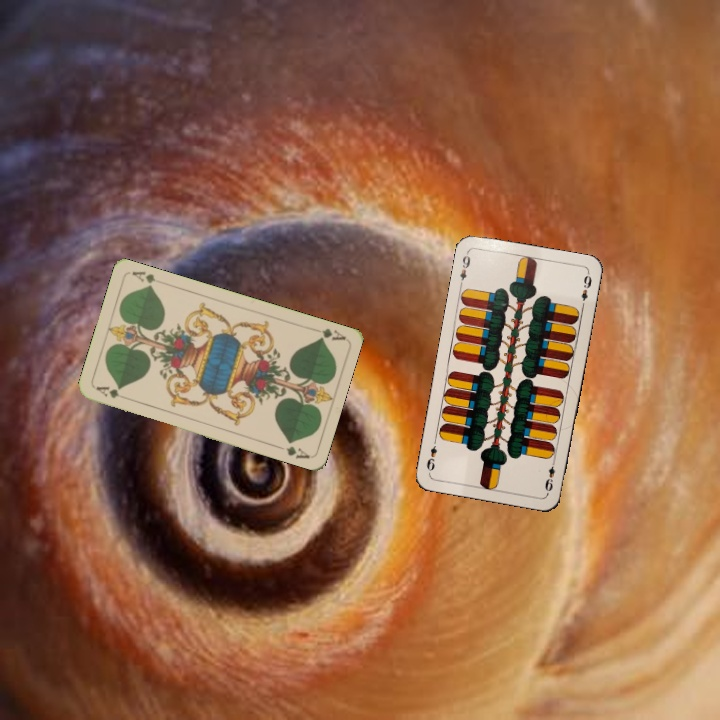E9: (456, 248, 473, 289), (541, 455, 558, 495)
GA: (92, 382, 132, 403), (314, 324, 347, 343)
